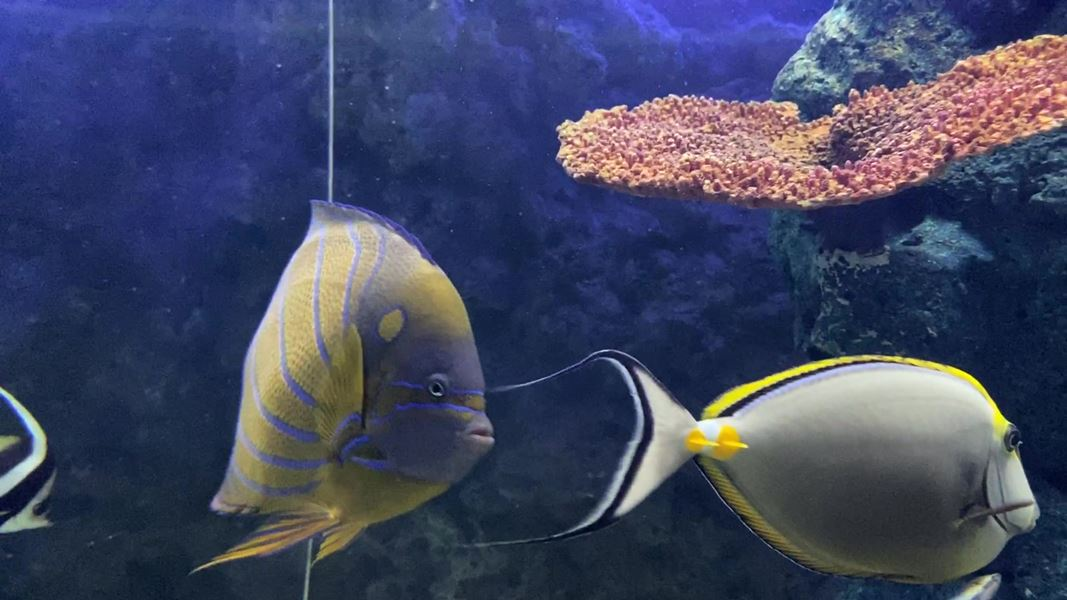Blue ring angelfish: (156, 179, 504, 600)
